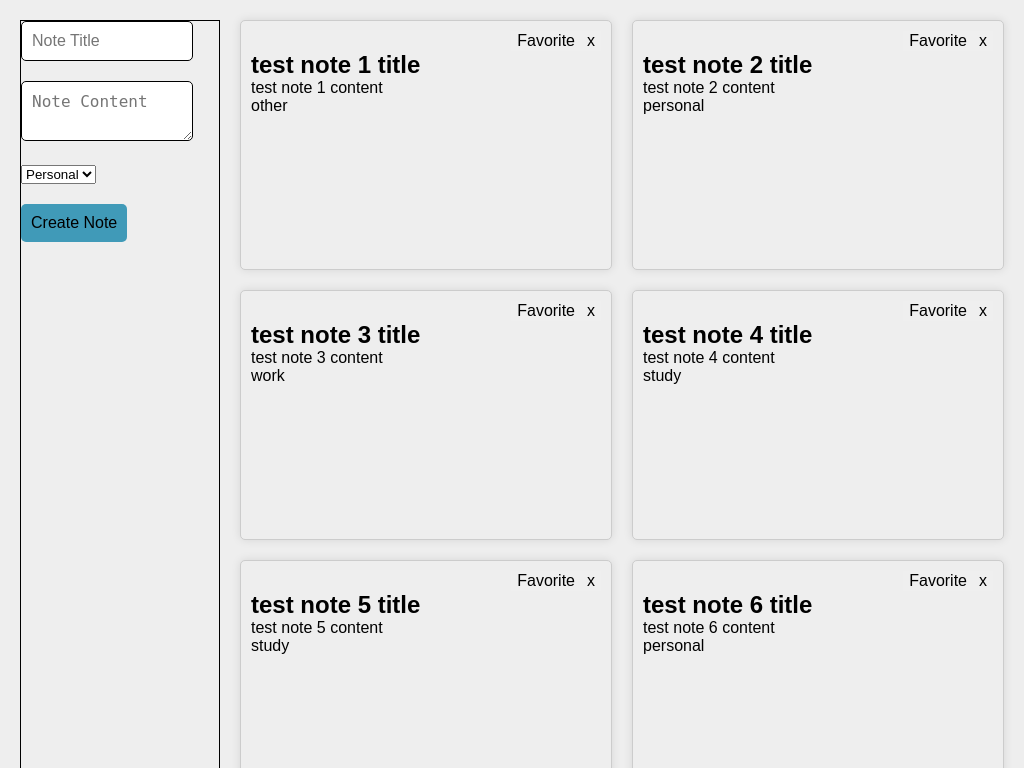
it: Create Sticky Note › Delete: Does the note get filtered out once the x button is pressed
The width and height of the screenshot is (1024, 768).
Check: the heading "test note 1 title" is shown, box [251, 51, 420, 78]
# Simulate clicking the delete button for the first note
Click the 1st button "x": (591, 41) [581, 31, 601, 51]
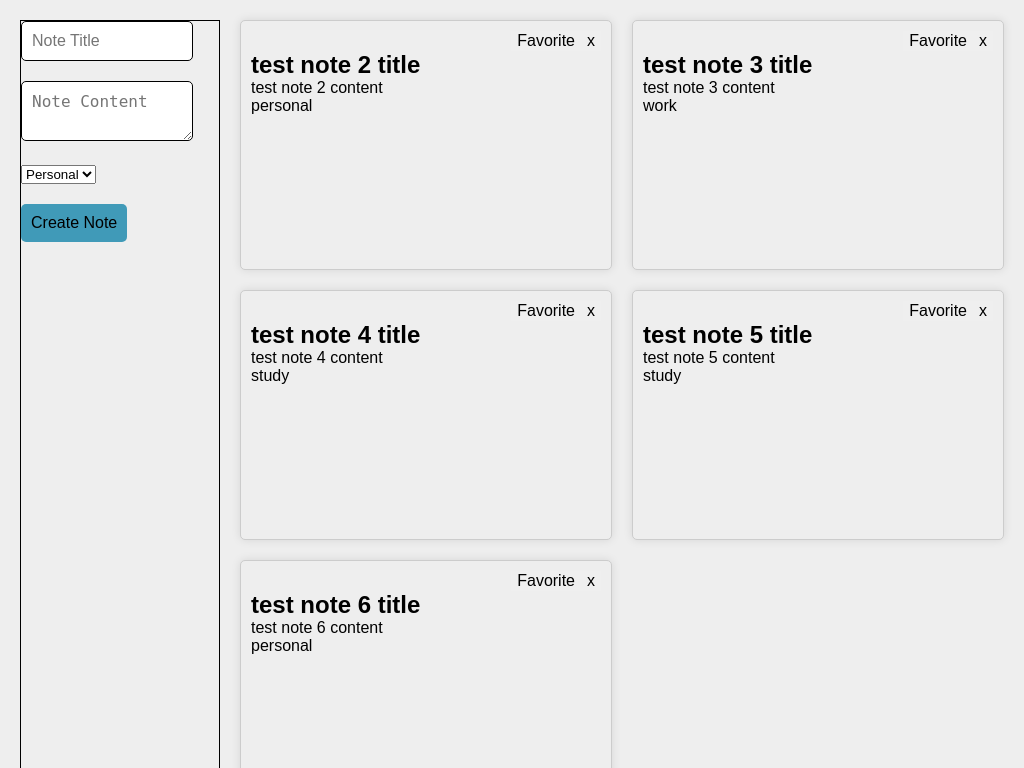
Check: the heading "test note 1 title" is gone
